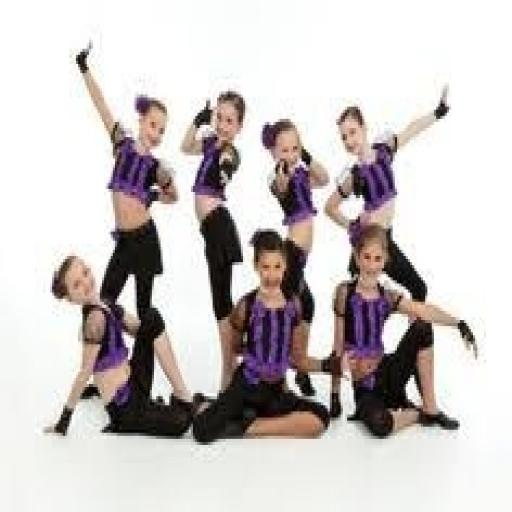dancing: (72, 36, 191, 424), (41, 250, 200, 442)
